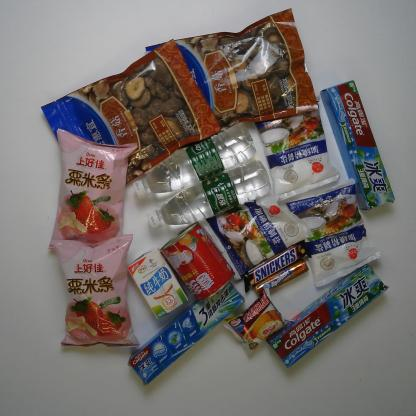Candy: (255, 263, 308, 296)
Canned Food: (160, 218, 233, 301)
Chocolate: (237, 240, 311, 289)
Dessert: (222, 288, 296, 358)
Dried Food: (41, 38, 220, 189), (146, 7, 320, 132)
Drink: (148, 160, 270, 233), (133, 122, 256, 192)
Milk: (126, 250, 188, 319)
Personal Hygiene: (264, 260, 390, 367), (128, 282, 244, 386), (321, 74, 396, 211)
Puffed Food: (48, 123, 138, 251), (50, 233, 142, 350)
Seasoner: (281, 174, 382, 290), (206, 187, 312, 277), (254, 107, 341, 202)
